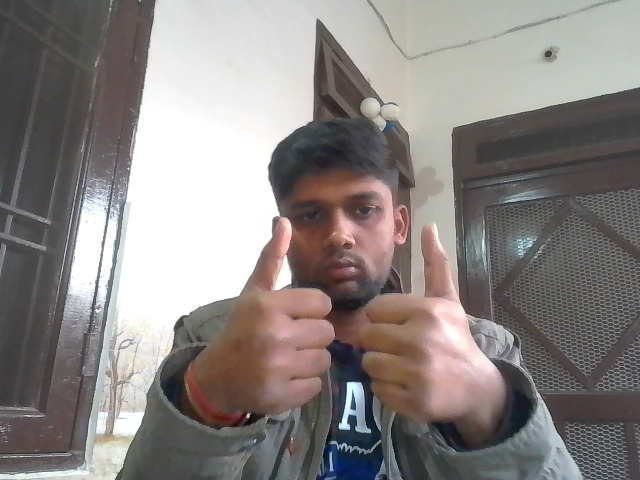Excellent: (225, 214, 471, 423)
